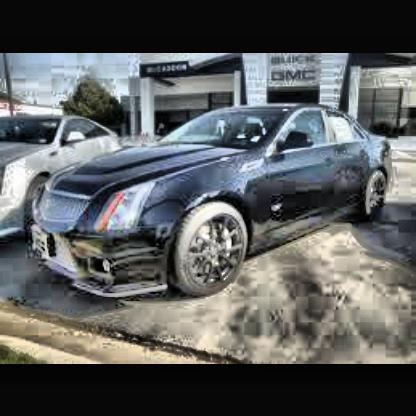Cadillac CTS-V Sedan 2012: (31, 101, 395, 300)
